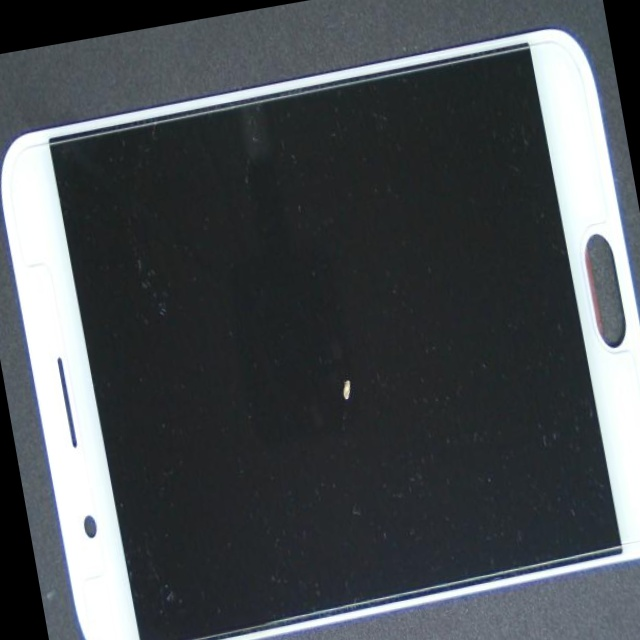stain: (160, 140, 539, 569)
